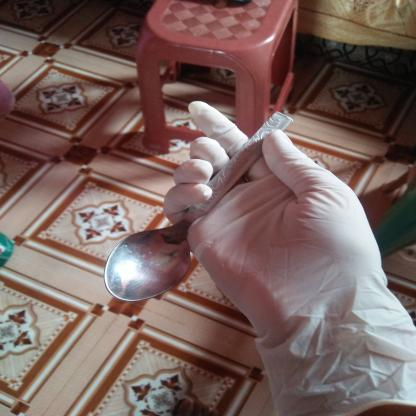gloved_hand: (154, 93, 416, 414)
